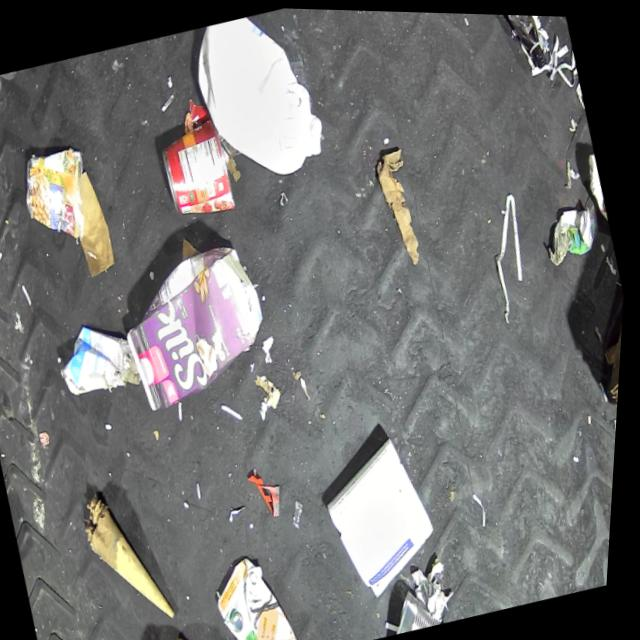can: (12, 141, 105, 250), (152, 113, 243, 224), (382, 575, 463, 635), (580, 147, 619, 239)
milk_jug: (178, 4, 339, 192)
non_white_jug: (108, 231, 285, 415), (211, 542, 316, 640)
